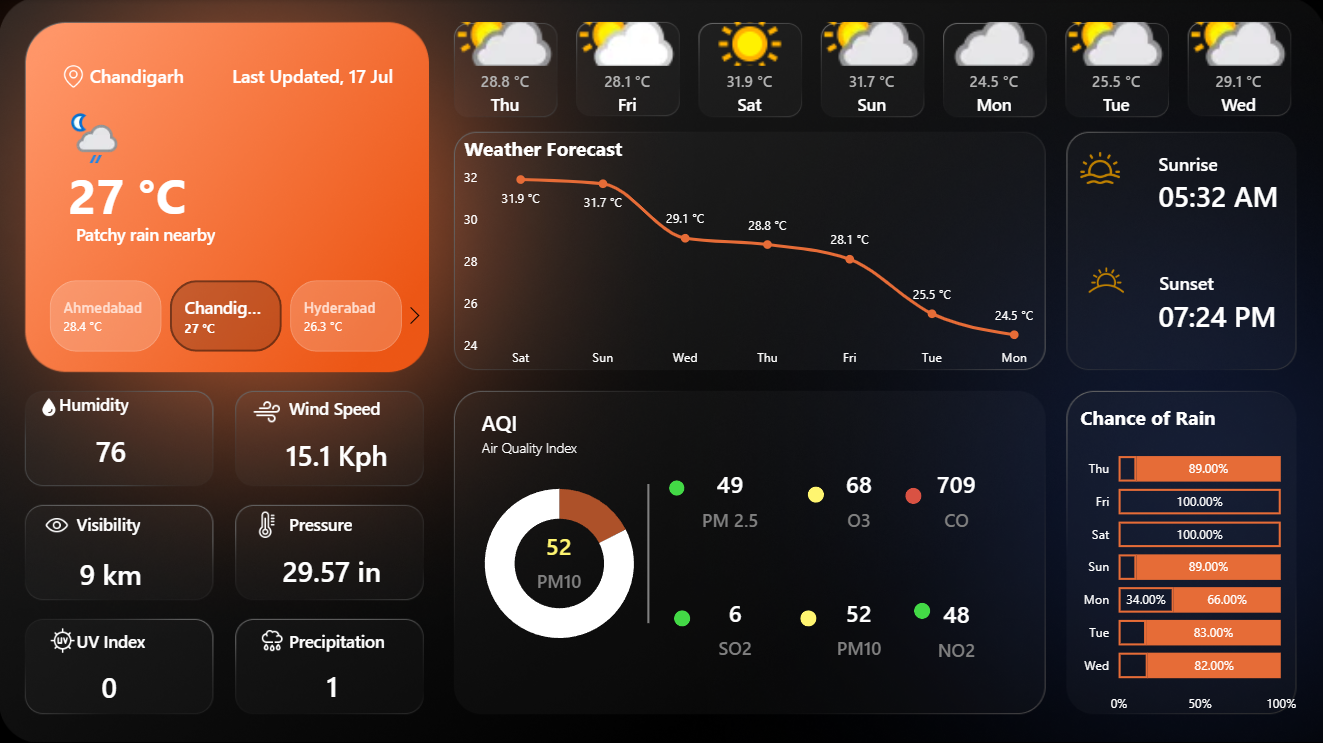

The page's visual inventory and layout, read from the dashboard file:
{"tool":"powerbi","page":{"name":"Page 1","canvas":[1280,720],"ordinal":0},"visuals":[{"type":"advancedSlicerVisual","fields":{"Values":["Locations.location.name"]},"box":[24.7,266.2,392.5,79.6],"z":0},{"type":"shape","box":[61.4,150,195.7,77.1],"z":1000},{"type":"shape","box":[71.4,205.7,314.3,41.4],"z":2000},{"type":"shape","box":[84.3,52.9,111.4,41.4],"z":3000},{"type":"image","box":[48.6,58.6,47.1,31.4],"z":4000},{"type":"shape","box":[221.4,52.9,164.3,41.4],"z":5000},{"type":"cardVisual","fields":{"Data":["Min(Current.current.condition.icon)"]},"box":[24.3,67.1,120,138.6],"z":6000},{"type":"image","box":[32.9,380,31.4,28.6],"z":7000},{"type":"shape","box":[55.7,374.3,88.6,34.3],"z":8000},{"type":"image","box":[240,380,37.1,37.1],"z":9000},{"type":"image","box":[38.6,490,34.3,35.7],"z":10000},{"type":"image","box":[240,490,37.1,35.7],"z":11000},{"type":"image","box":[38.6,601.4,45.7,34.3],"z":12000},{"type":"image","box":[240,601.4,47.1,34.3],"z":13000},{"type":"shape","box":[72.9,490,88.6,34.3],"z":14000},{"type":"shape","box":[277.1,377.1,108.6,34.3],"z":15000},{"type":"shape","box":[277.1,490,88.6,34.3],"z":16000},{"type":"shape","box":[72.9,601.4,88.6,34.3],"z":17000},{"type":"shape","box":[277.1,601.4,108.6,34.3],"z":18000},{"type":"cardVisual","fields":{"Data":["Sum(Current.current.humidity)"]},"box":[72.9,391.4,71.4,81.4],"z":19000},{"type":"cardVisual","fields":{"Data":["_Measures.Wind_Speed"]},"box":[257.1,394.3,138.6,81.4],"z":20000},{"type":"cardVisual","fields":{"Data":["Sum(Current.current.precip_mm)"]},"box":[277.1,617.1,88.6,81.4],"z":21000},{"type":"cardVisual","fields":{"Data":["Sum(Current.current.uv)"]},"box":[68.6,618.6,75.7,81.4],"z":22000},{"type":"cardVisual","fields":{"Data":["_Measures.Pressure"]},"box":[251.4,507.1,140,81.4],"z":23000},{"type":"cardVisual","fields":{"Data":["_Measures.Visibility"]},"box":[55.7,508.6,104.3,81.4],"z":24000},{"type":"lineChart","title":"Weather Forecast","fields":{"Category":["Forecast_Day.Day_Name"],"Y":["Sum(Forecast_Day.forecast.forecastday.day.avgtemp_c)"]},"box":[444.3,131.4,572.9,232.9],"z":25000},{"type":"advancedSlicerVisual","fields":{"Values":["Forecast_Day.Day_Name"]},"box":[428.6,15.7,828.6,101.4],"z":26000},{"type":"shape","box":[1115.7,137.1,100,41.4],"z":27000},{"type":"shape","box":[1115.7,168.6,125.7,41.4],"z":28000},{"type":"shape","box":[1115.7,284.3,125.7,41.4],"z":29000},{"type":"shape","box":[1115.7,247.1,100,52.9],"z":30000},{"type":"image","box":[1038.6,244.3,60,55.7],"z":31000},{"type":"image","box":[1038.6,137.1,48.6,51.4],"z":32000},{"type":"hundredPercentStackedBarChart","title":"Chance of Rain","fields":{"Y":["Current.Left_Value_Rain","Sum(Forecast_Day.forecast.forecastday.day.daily_chance_of_rain)"],"Category":["Forecast_Day.Day_Name"]},"box":[1038.6,391.4,218.6,307.1],"z":33000},{"type":"shape","box":[462.9,391.4,108.6,34.3],"z":34000},{"type":"shape","box":[462.9,415.7,108.6,34.3],"z":35000},{"type":"cardVisual","fields":{"Data":["Sum(Current.current.air_quality.co)"]},"box":[882.9,435.7,82.9,81.4],"z":35002},{"type":"cardVisual","fields":{"Data":["Sum(Current.current.air_quality.no2)"]},"box":[882.9,561.4,82.9,81.4],"z":35004},{"type":"cardVisual","fields":{"Data":["Sum(Current.current.air_quality.o3)"]},"box":[788.6,435.7,82.9,81.4],"z":35005},{"type":"cardVisual","fields":{"Data":["Sum(Current.current.air_quality.pm10)"]},"box":[788.6,560,82.9,81.4],"z":35006},{"type":"cardVisual","fields":{"Data":["Sum(Current.current.air_quality.pm2_5)"]},"box":[658.6,435.7,94.3,81.4],"z":35007},{"type":"cardVisual","fields":{"Data":["Sum(Current.current.air_quality.so2)"]},"box":[670,560,82.9,81.4],"z":35008},{"type":"shape","box":[647.1,464.3,15,15],"z":35009},{"type":"shape","box":[651.4,590,15.7,15.7],"z":35010},{"type":"shape","box":[780,470,15.7,15.7],"z":35011},{"type":"shape","box":[772.9,590,15.7,15.7],"z":35012},{"type":"shape","box":[874.3,471.4,15.7,15.7],"z":35013},{"type":"shape","box":[882.9,582.9,15.7,15.7],"z":35014},{"type":"shape","box":[600,468.6,54.3,134.3],"z":35015},{"type":"cardVisual","fields":{"Data":["Sum(Current.current.air_quality.pm10)"]},"box":[500,494.3,82.9,81.4],"z":35016},{"type":"donutChart","fields":{"Y":["Sum(Current.current.air_quality.pm10)","_Measures.Left_value_PM10"]},"box":[438.8,450,203.8,190],"z":35017}]}

Visuals, with their boxes in screenshot pixels (x1, y1, x2, y2), scaled from the page's 1280x720 canvas onto the 1323x743 screenshot:
advancedSlicerVisual - Locations.location.name: [26, 275, 431, 357]
shape: [63, 155, 266, 234]
shape: [74, 212, 399, 255]
shape: [87, 55, 202, 97]
image: [50, 60, 99, 93]
shape: [229, 55, 399, 97]
cardVisual - Min(Current.current.condition.icon): [25, 69, 149, 212]
image: [34, 392, 66, 422]
shape: [58, 386, 149, 422]
image: [248, 392, 286, 430]
image: [40, 506, 75, 542]
image: [248, 506, 286, 542]
image: [40, 621, 87, 656]
image: [248, 621, 297, 656]
shape: [75, 506, 167, 541]
shape: [286, 389, 399, 425]
shape: [286, 506, 378, 541]
shape: [75, 621, 167, 656]
shape: [286, 621, 399, 656]
cardVisual - Sum(Current.current.humidity): [75, 404, 149, 488]
cardVisual - _Measures.Wind_Speed: [266, 407, 409, 491]
cardVisual - Sum(Current.current.precip_mm): [286, 637, 378, 721]
cardVisual - Sum(Current.current.uv): [71, 638, 149, 722]
cardVisual - _Measures.Pressure: [260, 523, 405, 607]
cardVisual - _Measures.Visibility: [58, 525, 165, 609]
"Weather Forecast" lineChart: [459, 136, 1051, 376]
advancedSlicerVisual - Forecast_Day.Day_Name: [443, 16, 1299, 121]
shape: [1153, 141, 1257, 184]
shape: [1153, 174, 1283, 217]
shape: [1153, 293, 1283, 336]
shape: [1153, 255, 1257, 310]
image: [1073, 252, 1136, 310]
image: [1073, 141, 1124, 195]
"Chance of Rain" hundredPercentStackedBarChart: [1073, 404, 1299, 721]
shape: [478, 404, 591, 439]
shape: [478, 429, 591, 464]
cardVisual - Sum(Current.current.air_quality.co): [913, 450, 998, 534]
cardVisual - Sum(Current.current.air_quality.no2): [913, 579, 998, 663]
cardVisual - Sum(Current.current.air_quality.o3): [815, 450, 901, 534]
cardVisual - Sum(Current.current.air_quality.pm10): [815, 578, 901, 662]
cardVisual - Sum(Current.current.air_quality.pm2_5): [681, 450, 778, 534]
cardVisual - Sum(Current.current.air_quality.so2): [693, 578, 778, 662]
shape: [669, 479, 684, 495]
shape: [673, 609, 690, 625]
shape: [806, 485, 822, 501]
shape: [799, 609, 815, 625]
shape: [904, 486, 920, 503]
shape: [913, 602, 929, 618]
shape: [620, 484, 676, 622]
cardVisual - Sum(Current.current.air_quality.pm10): [517, 510, 602, 594]
donutChart - Sum(Current.current.air_quality.pm10) x _Measures.Left_value_PM10: [454, 464, 664, 660]
